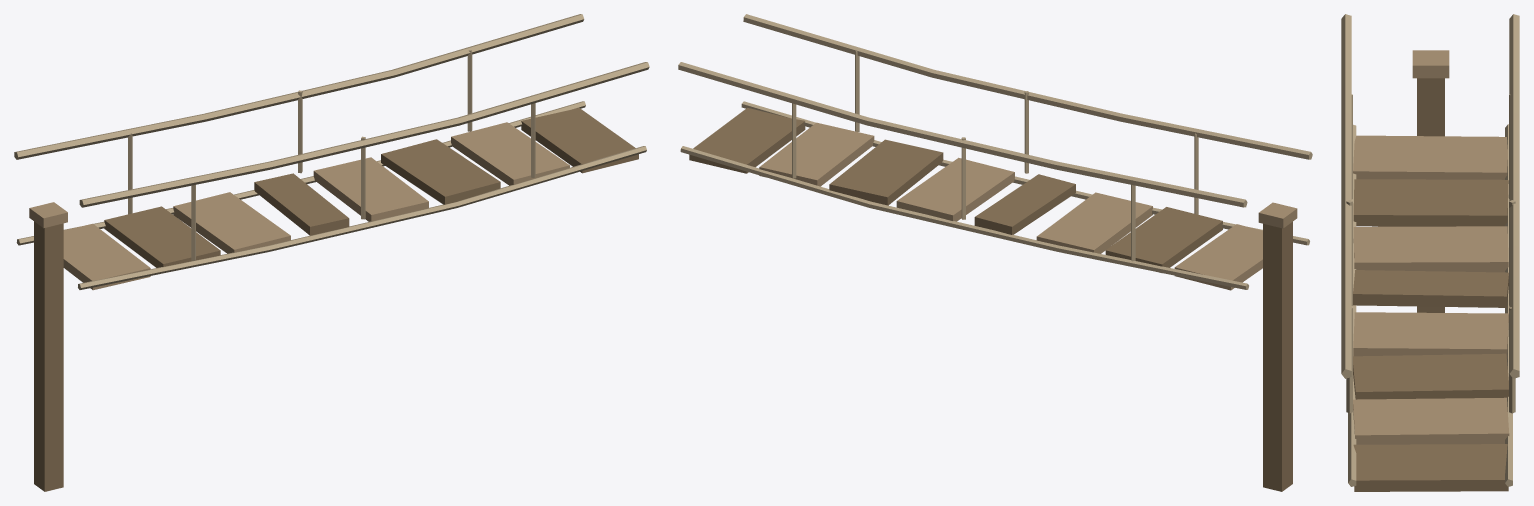
File: cloudloft_rope_bridge.glb
3 renders of one model, left to right at view 1: azimuth 30°, elevation 25°; view 2: azimuth 150°, elevation 25°; view 3: azimuth 270°, elevation 25°, orthographic. The views are drawn at different scales.
Parts seen in each view (by area): view 1: cloudloft_rope_bridge; view 2: cloudloft_rope_bridge; view 3: cloudloft_rope_bridge.
Boxes of the visible parts, x1,y1,x2,y2 form: cloudloft_rope_bridge: (14, 14, 649, 491); cloudloft_rope_bridge: (678, 14, 1312, 491); cloudloft_rope_bridge: (1341, 14, 1519, 491).
Size of the model in its own units: 3.07 by 1.57 by 0.6362.
